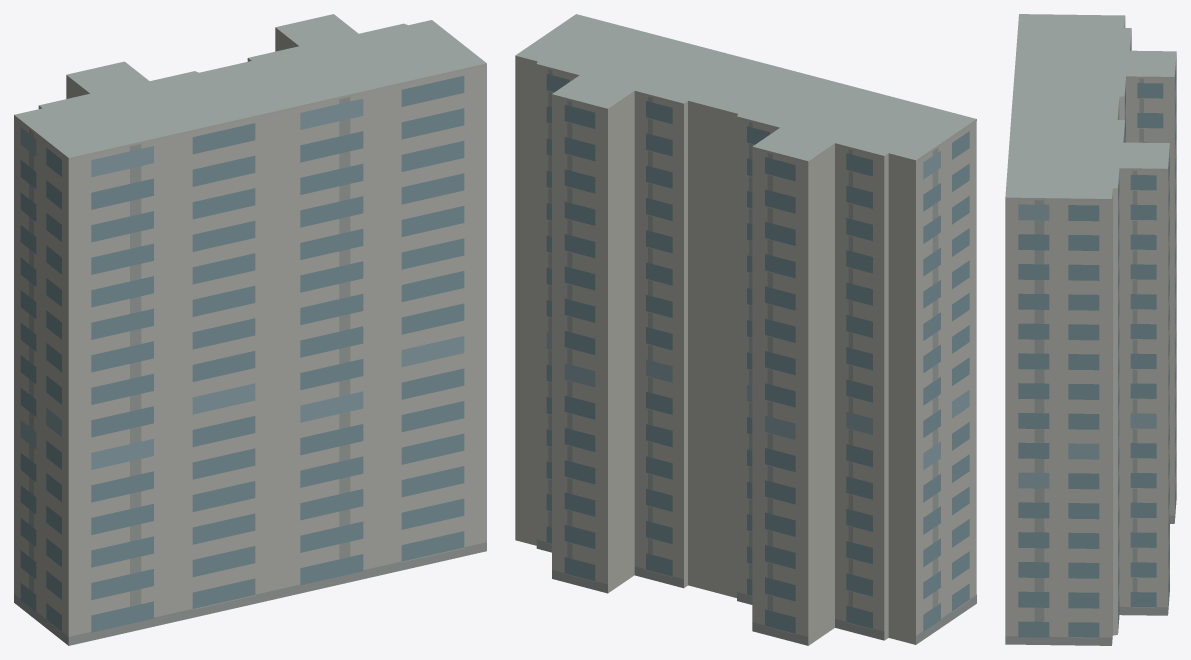
The model's file is residential-91326713-660e-4d65-9ed2-294b9943b9d3.glb.
3 views of the same model, side by side, from view 1: azimuth 30°, elevation 25°; view 2: azimuth 150°, elevation 25°; view 3: azimuth 270°, elevation 25° (orthographic). The views are drawn at different scales.
Parts seen in each view (by area): view 1: residential-91326713-660e-4d65-9ed2-294b9943b9d3.tmp; view 2: residential-91326713-660e-4d65-9ed2-294b9943b9d3.tmp; view 3: residential-91326713-660e-4d65-9ed2-294b9943b9d3.tmp.
Boxes of the visible parts, x1,y1,x2,y2 form: residential-91326713-660e-4d65-9ed2-294b9943b9d3.tmp: (14,14,486,645); residential-91326713-660e-4d65-9ed2-294b9943b9d3.tmp: (515,14,976,645); residential-91326713-660e-4d65-9ed2-294b9943b9d3.tmp: (1005,14,1176,645).
Size of the model in its own units: 45.29 by 51 by 17.72.
